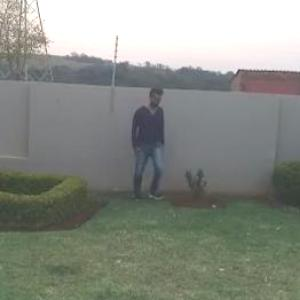follow: (128, 84, 165, 204)
